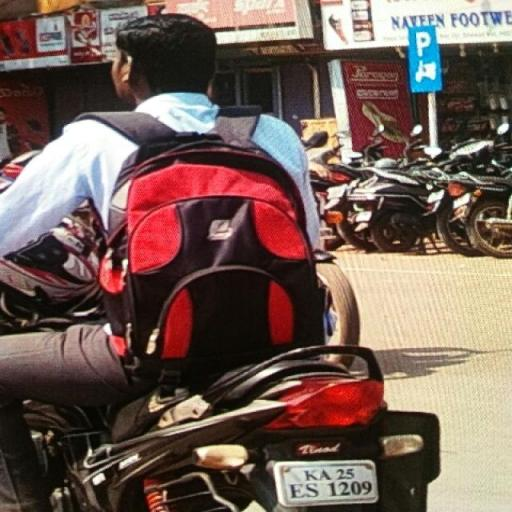bike: (7, 17, 446, 512)
numberplate: (278, 461, 374, 506)
withouthelmet: (114, 16, 216, 95)
